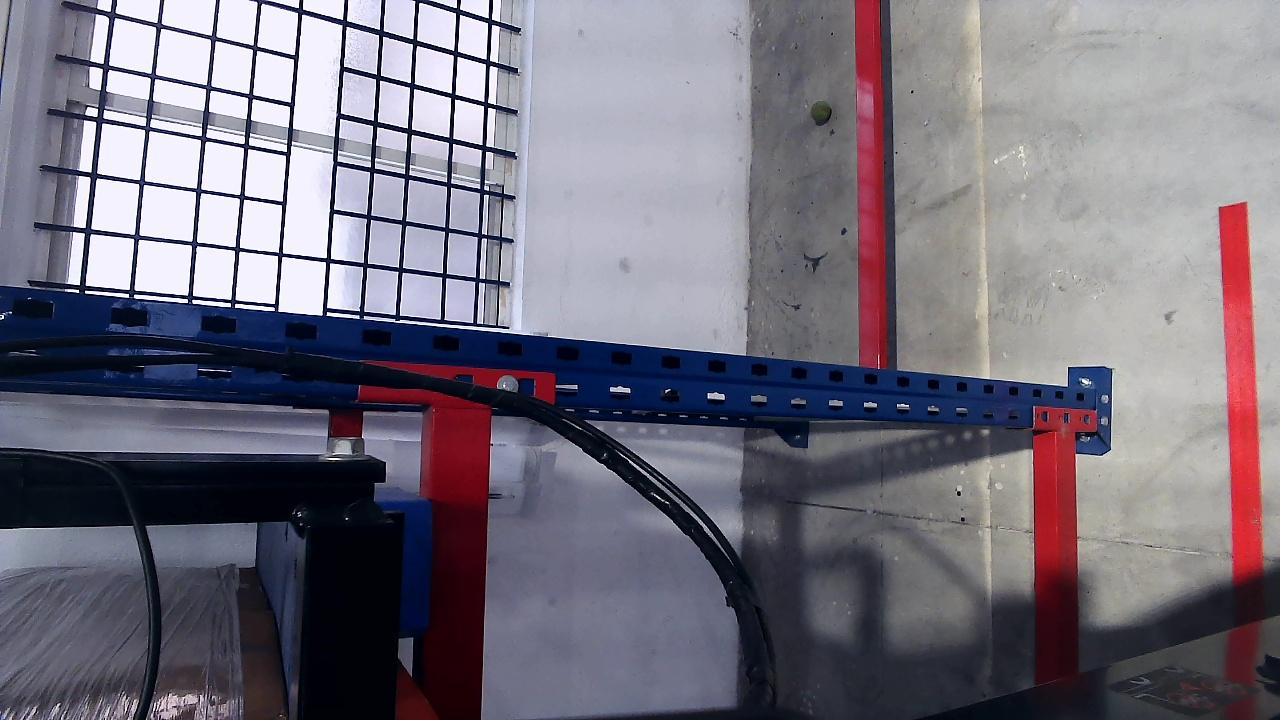h_rack: (421, 406, 491, 718), (855, 1, 889, 376), (1053, 431, 1085, 679)
red_line: (1216, 202, 1265, 573)
